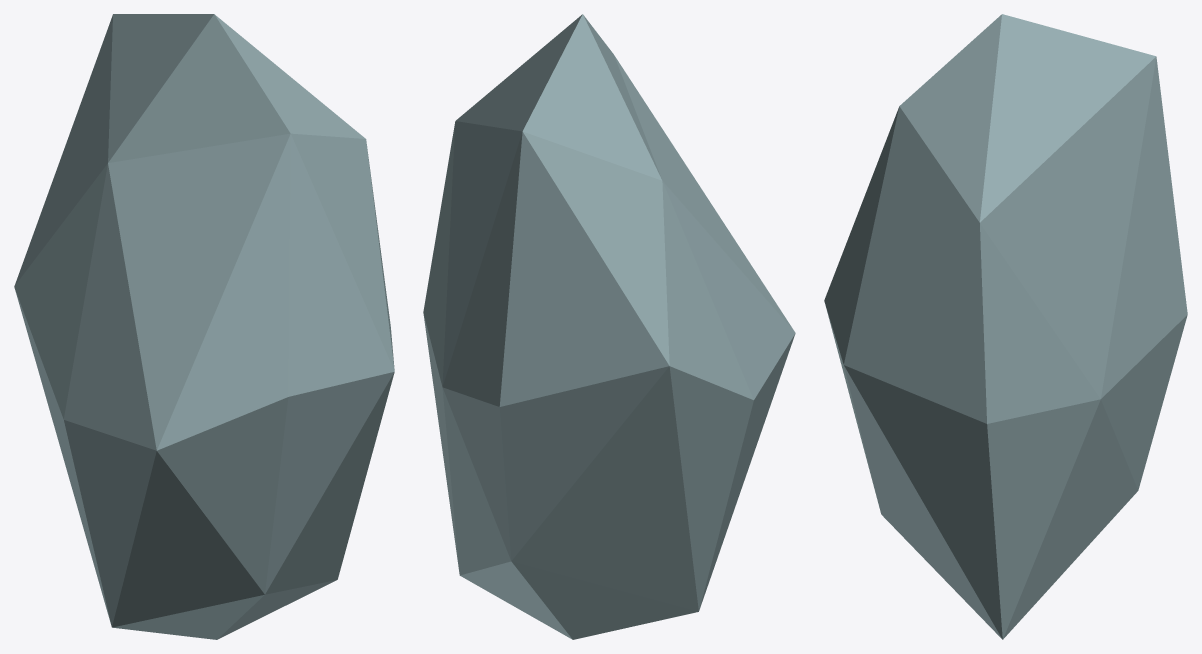
The model's file is Dandelion_Roc2_Clair.FBX.
3 views of the same model, side by side, from view 1: azimuth 30°, elevation 25°; view 2: azimuth 150°, elevation 25°; view 3: azimuth 270°, elevation 25° (orthographic). The views are drawn at different scales.
Visible parts, largest first — view 1: GeoSphere013; view 2: GeoSphere013; view 3: GeoSphere013.
Boxes of the visible parts, x1,y1,x2,y2 form: GeoSphere013: [14, 14, 394, 639]; GeoSphere013: [423, 14, 795, 639]; GeoSphere013: [824, 14, 1187, 639].
Size of the model in its own units: 362 by 660 by 362.
